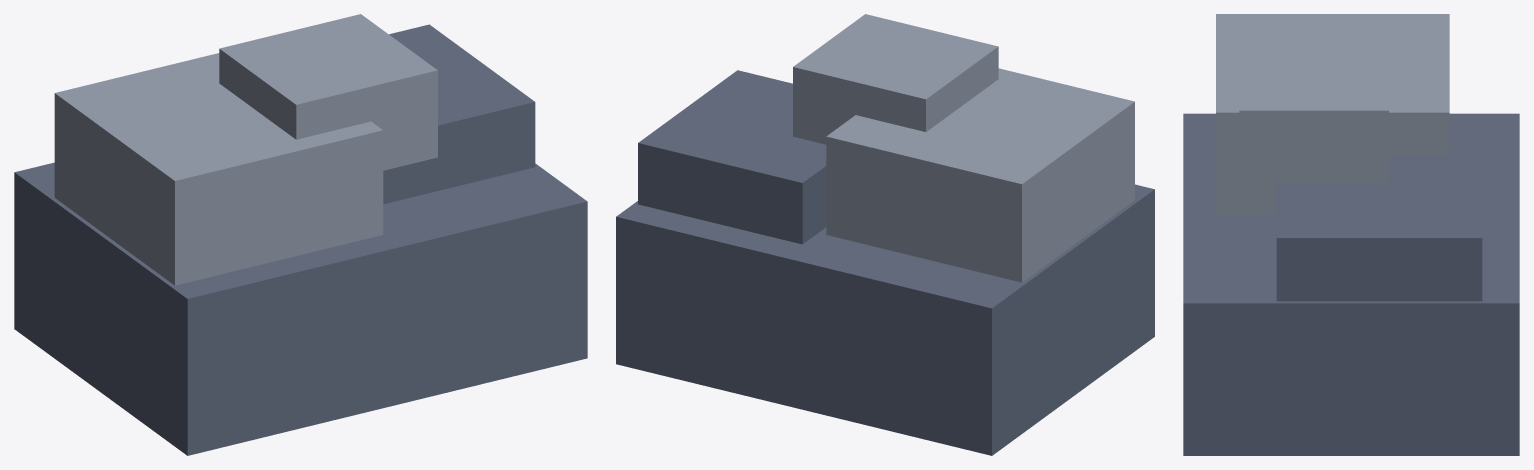
Rendered from round-rock.glb.
The picture shows the model from 3 angles, left to right: view 1: azimuth 30°, elevation 25°; view 2: azimuth 150°, elevation 25°; view 3: azimuth 270°, elevation 25°; orthographic projection. The views are drawn at different scales.
Parts seen in each view (by area): view 1: round-rock-667085, round-rock-98a2b3; view 2: round-rock-667085, round-rock-98a2b3; view 3: round-rock-667085, round-rock-98a2b3.
Boxes of the visible parts, box(x1,y1,x2,y2) form: round-rock-667085: box(14, 24, 587, 455); round-rock-98a2b3: box(54, 14, 437, 285); round-rock-667085: box(616, 70, 1154, 455); round-rock-98a2b3: box(793, 14, 1134, 282); round-rock-667085: box(1183, 113, 1519, 455); round-rock-98a2b3: box(1216, 14, 1449, 214).
Size of the model in its own units: 2.4 by 1.7 by 1.8.
